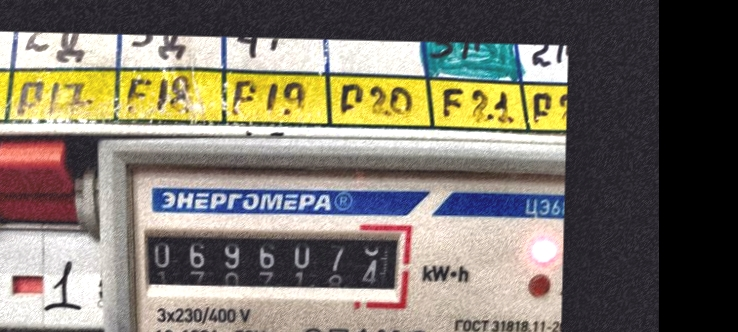0: (151, 238, 171, 269), (292, 239, 311, 269)
4: (358, 257, 378, 285)
6: (185, 238, 207, 269), (257, 240, 276, 269)
7: (327, 241, 344, 271)
9: (222, 240, 240, 270)
screen: (126, 211, 413, 308)
